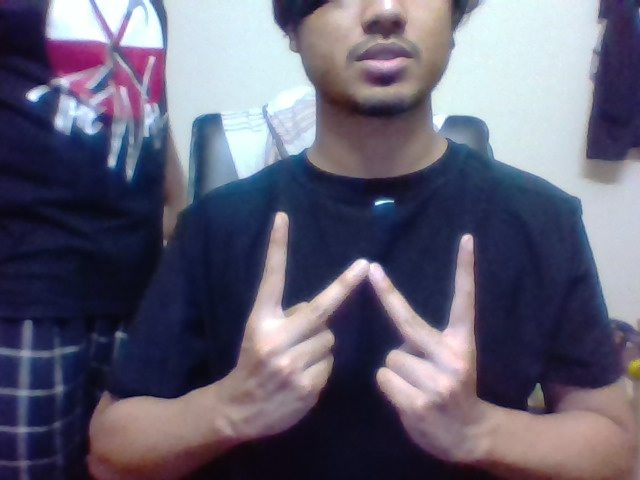W: (250, 203, 491, 343)
